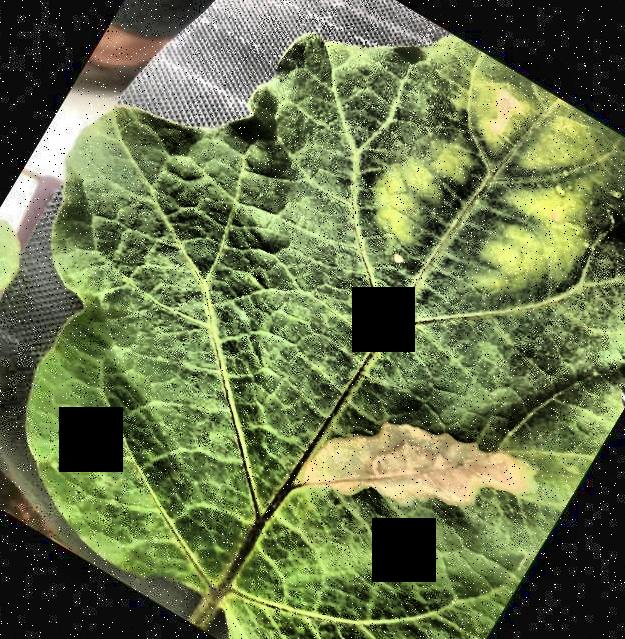Critical Stress: (0, 0, 625, 639)
